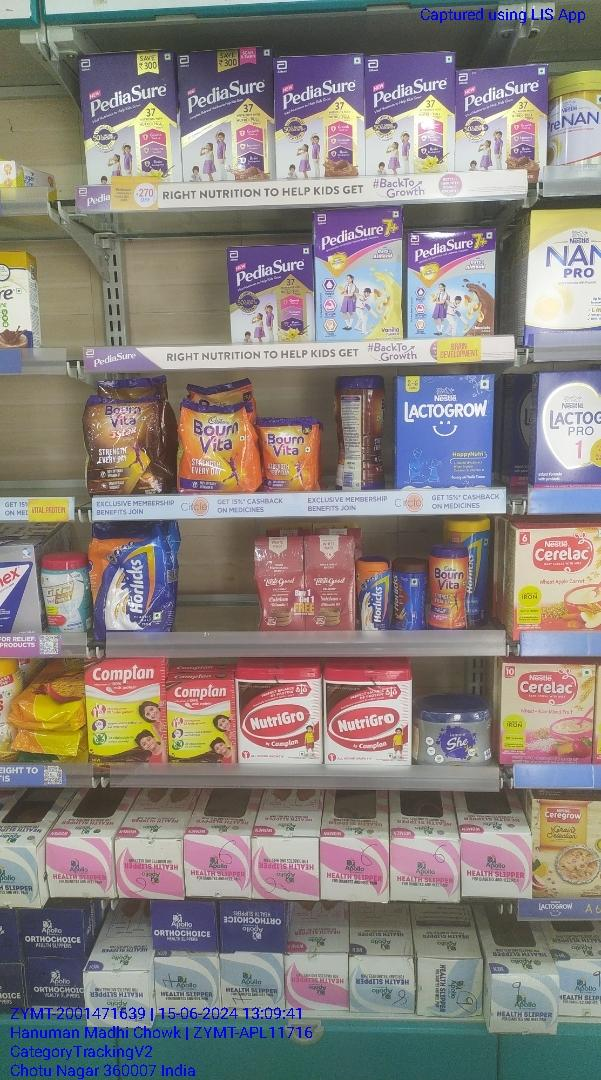BOURN_VITA_200_G_JAR: (429, 546, 468, 632)
BOURN_VITA_500_G_POUCH: (179, 399, 254, 490)
BOURN_VITA_75_G_POUCH: (259, 418, 316, 490)
BOURN_VITA_FIVE_STAR_MAGIC_500_G_POUCH: (84, 395, 166, 496)
COMPLAN_CHOCOLATE_200_GMS_PACK: (168, 682, 234, 771)
COMPLAN_CHOCOLATE_500_GMS_PACK: (89, 662, 164, 767)
HORLICK_CHOCOLATE_200_G_JAR: (392, 561, 426, 631)
HORLICK_CLASSIC_MALT_200_G_JAR: (355, 559, 389, 633)
PEDIASURE_7_PLUS_CHOCOLATE_400_G_PACK: (408, 232, 494, 338)
PEDIASURE_CHOCOLATE_500_G_PACK: (181, 51, 271, 179), (276, 58, 366, 177)
PEDIASURE_VANILLA_500_G_PACK: (81, 55, 178, 172), (369, 55, 453, 171)
